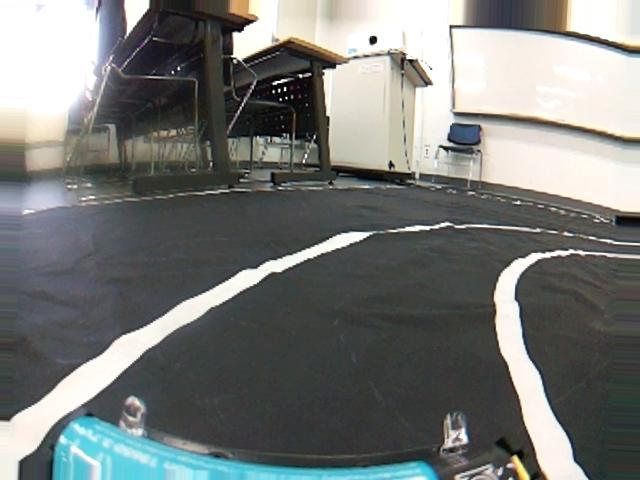straight: (0, 287, 640, 474)
